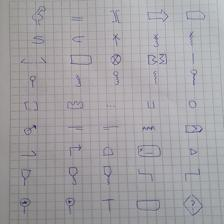aptamer: (32, 5, 46, 25)
assembly-scar: (71, 16, 85, 22)
blunt-restriction-site: (109, 9, 123, 23)
cds: (185, 10, 206, 21)
cds-arrow: (147, 9, 169, 22)
chromosomal-locus: (31, 35, 45, 44)
circular-plasmid: (71, 35, 88, 43)
composite: (20, 56, 47, 65)
dna-stability-element: (21, 168, 32, 186)
engineered-region: (70, 54, 93, 66)
five-prime-overhang: (67, 125, 84, 132)
five-prime-sticky-restriction-site: (137, 168, 154, 181)
halfround-rectangle: (136, 199, 161, 212)
inert-dna-spacer: (110, 54, 122, 65)
intron: (147, 53, 168, 66)
location-dna: (29, 75, 37, 88)
location-dna-no-top: (191, 52, 195, 64)
location-protein: (112, 70, 120, 86)
location-protein-no-top: (74, 74, 82, 88)
location-rna: (190, 69, 198, 86)
location-rna-no-top: (152, 70, 158, 85)
ncrna: (65, 100, 84, 110)
no-glyph-assigned: (23, 100, 39, 112)
nuclease-site: (112, 33, 121, 47)
omitted-detail: (105, 103, 117, 109)
operator: (146, 100, 156, 109)
origin-of-replication: (188, 99, 199, 109)
origin-of-transfer: (24, 124, 36, 135)
polyA: (142, 125, 156, 132)
polypeptide-region: (184, 124, 204, 134)
primer-binding-site: (19, 150, 37, 158)
promoter: (69, 144, 82, 156)
protease-site: (152, 33, 161, 48)
protein-stability-element: (68, 166, 79, 185)
replacement-glyph: (183, 193, 204, 216)
ribonuclease-site: (188, 31, 195, 47)
ribosome-entry-site: (102, 146, 114, 157)
rna-stability-element: (103, 165, 113, 185)
signature: (136, 144, 162, 158)
specific-recombination-site: (188, 147, 198, 156)
terminator: (101, 198, 116, 212)
three-prime-overhang: (102, 125, 120, 131)
three-prime-sticky-restriction-site: (184, 168, 201, 181)
transcription-end: (19, 197, 32, 215)
translation-end: (65, 197, 75, 215)
